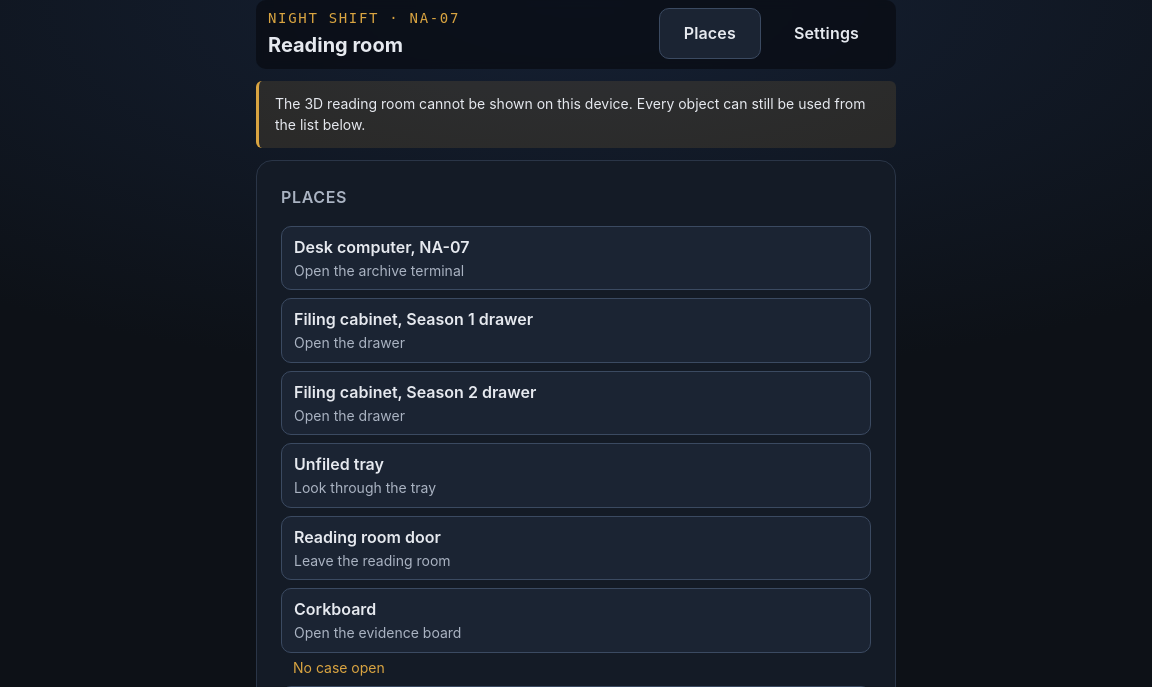
Test: RoomScreen › an empty drawer and an empty tray say so
Click the button "Filing cabinet, Season 2 drawer Open the drawer" at (415,392), box [281,371,871,435]
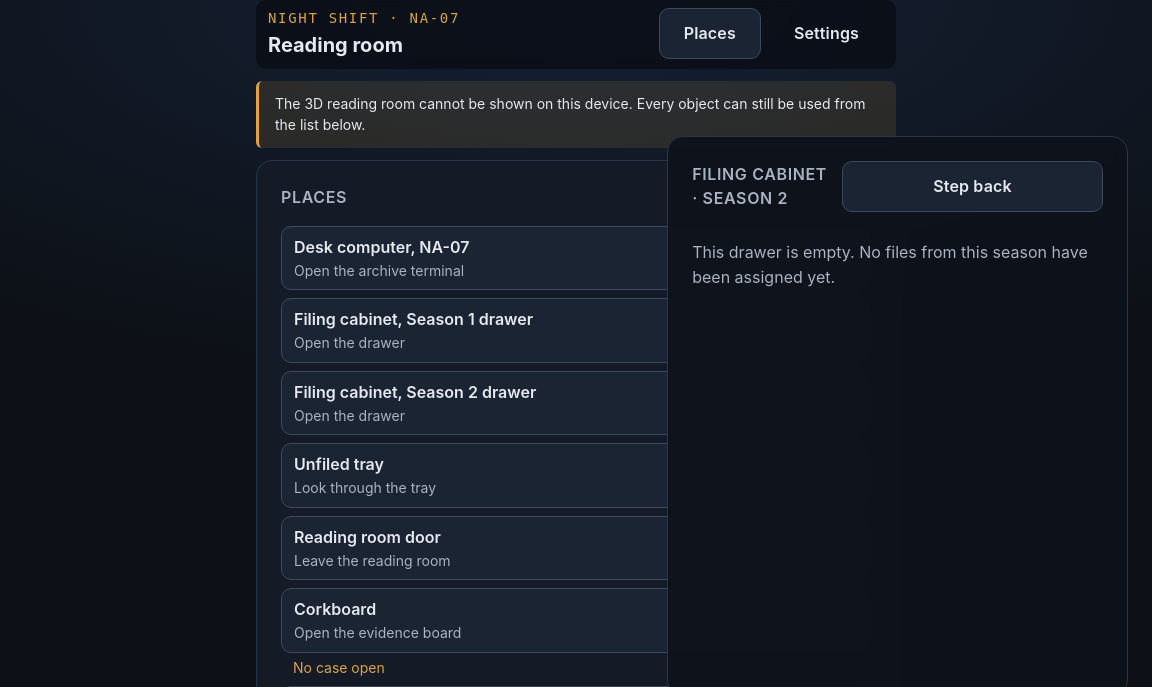
Expected: the text "This drawer is empty" is shown, [692,242,1088,287]
Click the button "Step back" at (972,186), box [842,161,1103,212]
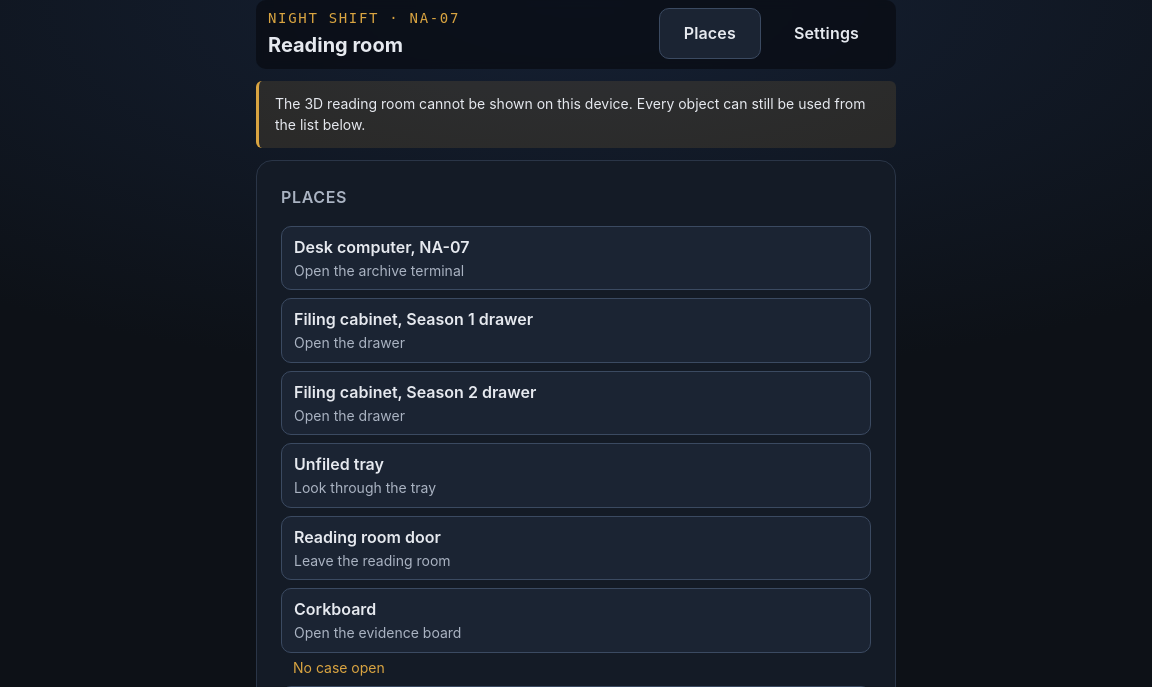
Click the button "Unfiled tray Look through the tray" at (339,464), box [281,443,871,508]
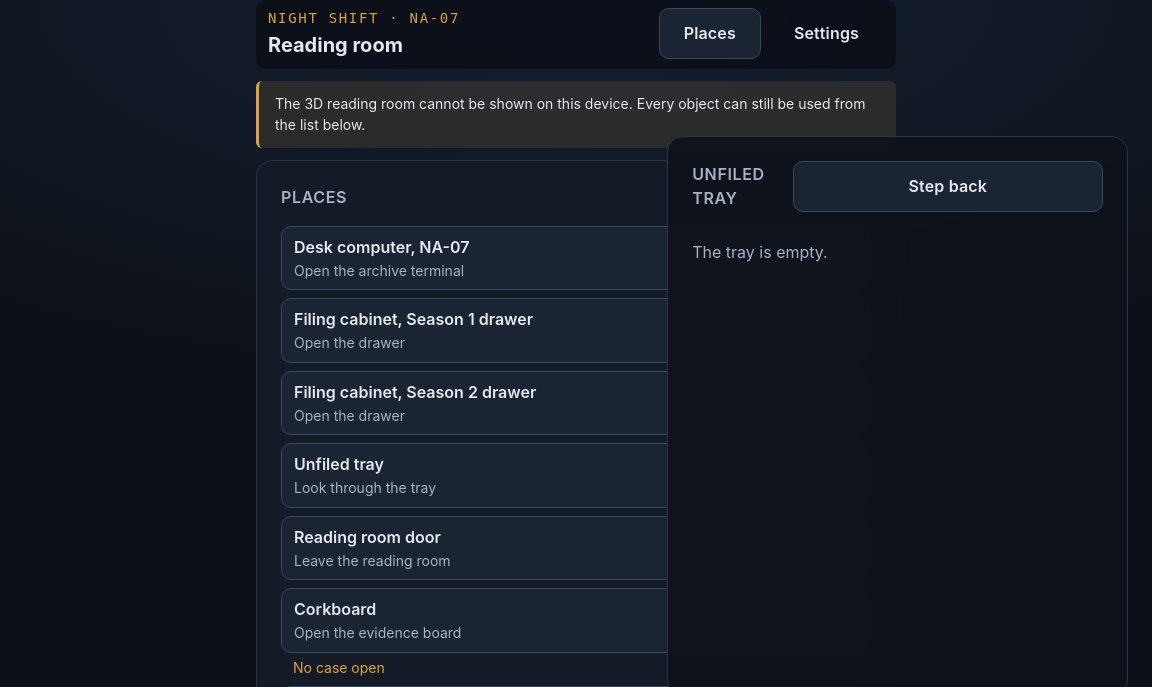
Expected: the text "The tray is empty." is shown, [692,242,828,262]
